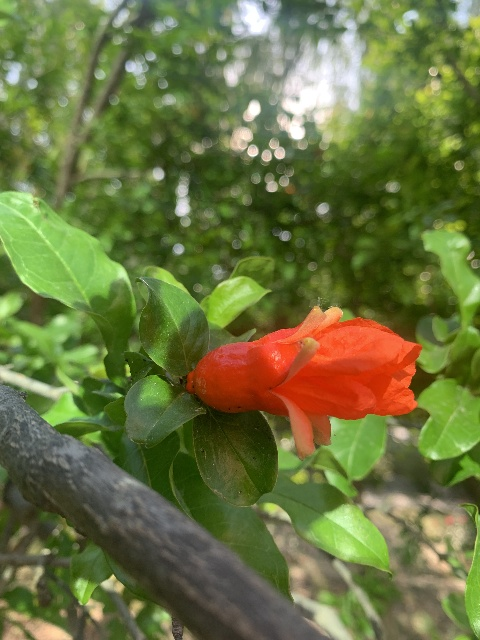flower: (188, 303, 423, 459)
